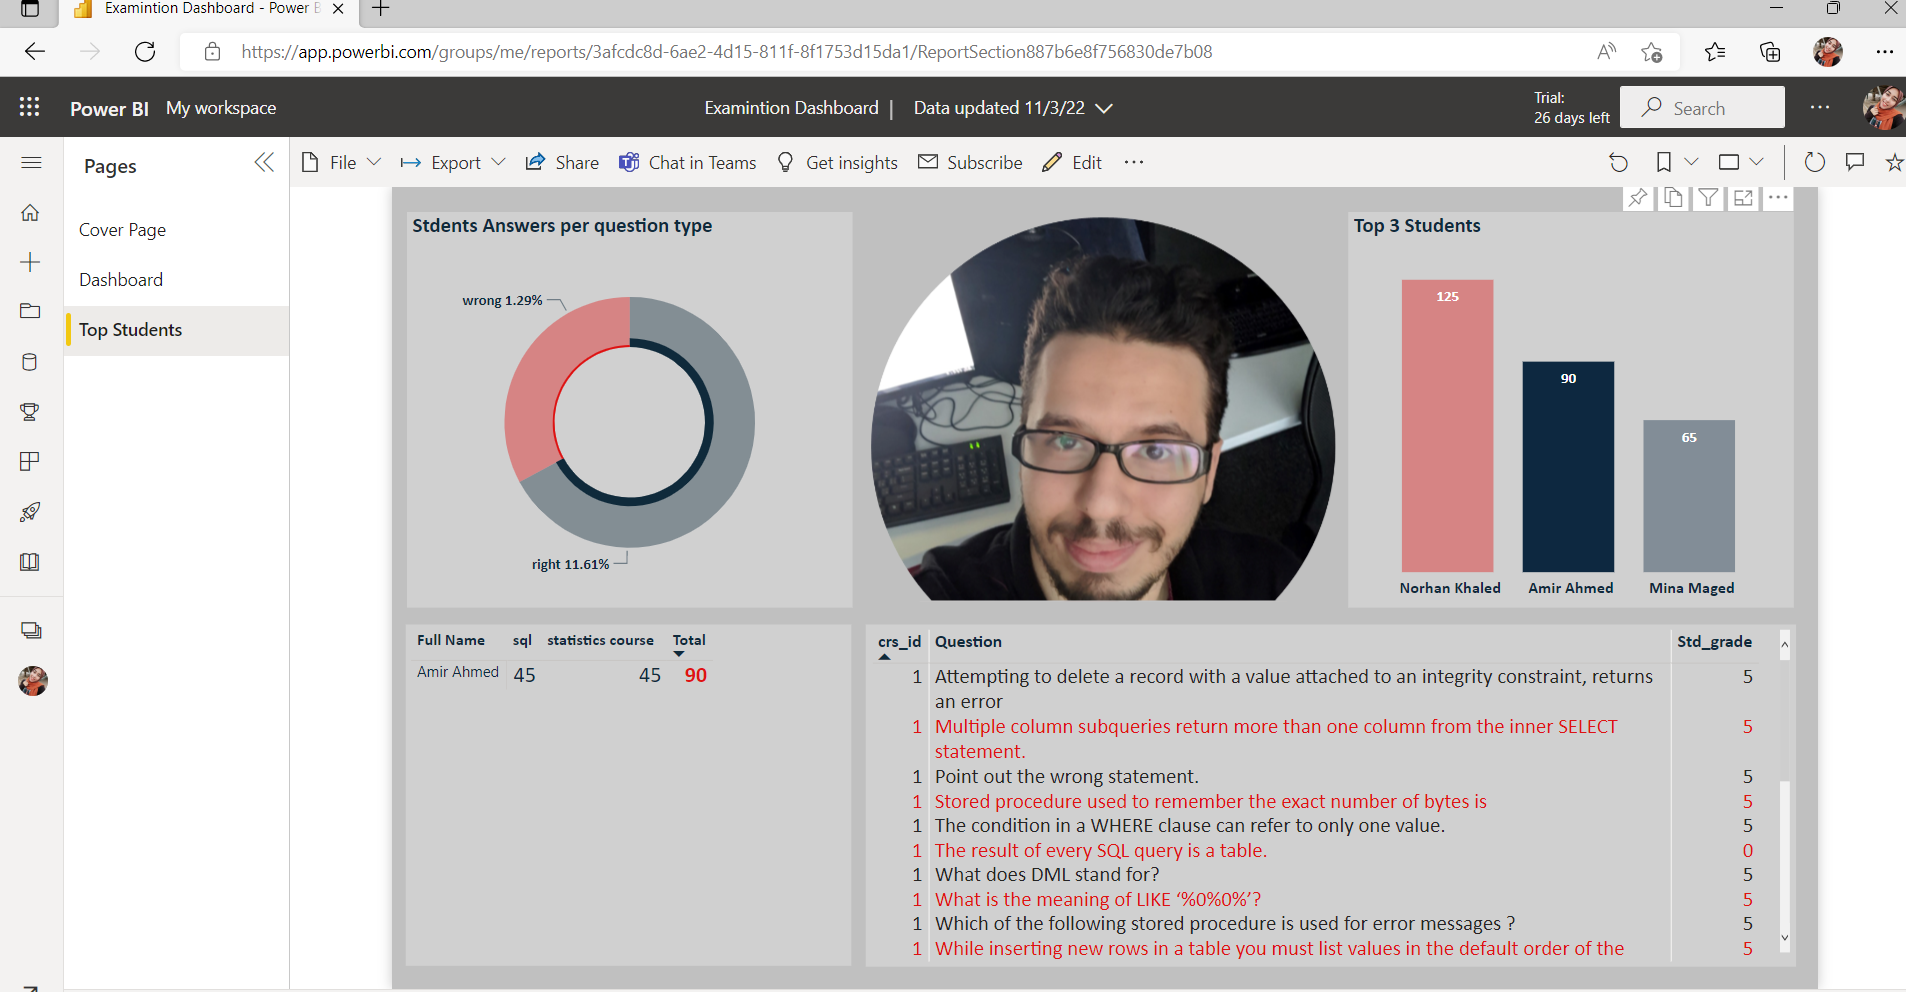

The page's visual inventory and layout, read from the dashboard file:
{"tool":"powerbi","page":{"name":"Top Students","canvas":[1280,720],"ordinal":2},"visuals":[{"type":"pivotTable","fields":{"Rows":["Student.Std_FullName"],"Columns":["Course.crs_name"],"Values":["Sum(exam_Q_std.std_Q_grade)"]},"box":[12.8,392.6,399.7,306.1],"z":0},{"type":"clusteredColumnChart","title":"Top 3 Students","fields":{"Category":["Student.Std_FullName"],"Y":["Sum(exam_Q_std.std_Q_grade)"]},"box":[858.9,22.7,400,355],"z":1000},{"type":"donutChart","title":"Stdents Answers per question type","fields":{"Category":["exam_Q_std.Answers"],"Y":["CountNonNull(exam_Q_std.Answers)"]},"box":[12.9,22.6,400,355],"z":2000},{"type":"tableEx","fields":{"Values":["Course.crs_id","Questions.Question","Sum(exam_Q_std.std_Q_grade)"]},"box":[425.2,392.6,834.8,307.6],"z":3000},{"type":"ImgViewerVisual1455487926945","fields":{"Values":["Images.Url"]},"box":[425.2,22.7,426.6,354.3],"z":4000}]}

Visuals, with their boxes on the page's 1280x720 design canvas (x1, y1, x2, y2). These are canvas units, not pixel positions in the 1906x992 screenshot, which may show the page scaled, cropped or inside an application window:
pivotTable - Student.Std_FullName x Course.crs_name: rect(13, 393, 412, 699)
"Top 3 Students" clusteredColumnChart: rect(859, 23, 1259, 378)
"Stdents Answers per question type" donutChart: rect(13, 23, 413, 378)
tableEx - Course.crs_id x Questions.Question: rect(425, 393, 1260, 700)
ImgViewerVisual1455487926945 - Images.Url: rect(425, 23, 852, 377)
